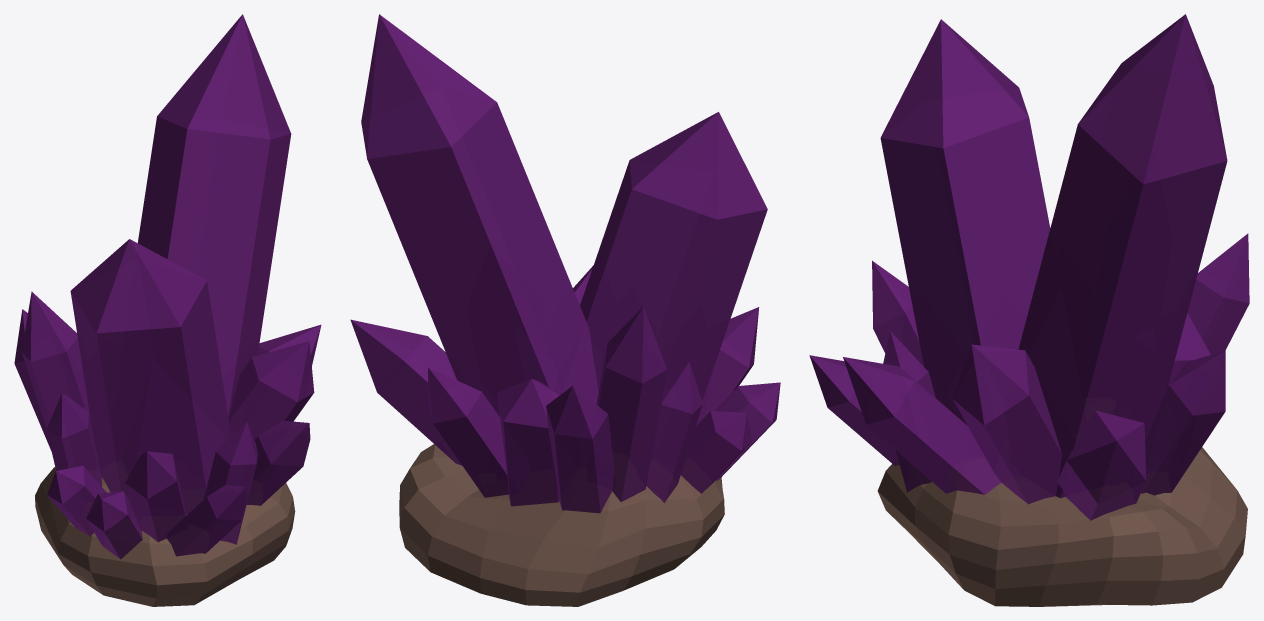
File: Crystal_Cluster_A.fbx
3 views of the same model, side by side, from view 1: azimuth 30°, elevation 25°; view 2: azimuth 150°, elevation 25°; view 3: azimuth 270°, elevation 25° (orthographic). The views are drawn at different scales.
Parts seen in each view (by area): view 1: Crystal13, Crystal14, Rock_A, pCylinder70, Crystal3, Crystal10, Crystal4, Crystal5, Crystal7, Crystal6, Crystal9, Crystal8 (+2 smaller); view 2: Crystal13, Crystal14, Rock_A, Crystal3, Crystal11, Crystal1, Crystal12, Crystal2, Crystal7, Crystal8, Crystal10, Crystal9; view 3: Crystal13, Crystal14, Rock_A, pCylinder70, Crystal4, Crystal12, Crystal1, Crystal11, Crystal10, Crystal5, Crystal6, Crystal2.
Part boxes in pixels (x1,y1,x2,y2): Crystal13: [138, 14, 291, 417]; Crystal14: [70, 239, 231, 514]; Rock_A: [35, 467, 295, 606]; pCylinder70: [228, 341, 314, 439]; Crystal3: [21, 291, 90, 428]; Crystal10: [125, 451, 186, 542]; Crystal4: [246, 420, 310, 505]; Crystal5: [167, 485, 247, 556]; Crystal7: [46, 393, 101, 486]; Crystal6: [204, 422, 257, 544]; Crystal9: [86, 491, 142, 559]; Crystal8: [47, 465, 106, 536]; Crystal13: [361, 14, 598, 416]; Crystal14: [580, 112, 767, 401]; Rock_A: [399, 444, 724, 606]; Crystal3: [596, 306, 666, 501]; Crystal11: [546, 386, 614, 513]; Crystal1: [350, 319, 462, 465]; Crystal12: [428, 367, 508, 497]; Crystal2: [497, 379, 560, 506]; Crystal7: [646, 362, 702, 503]; Crystal8: [681, 411, 751, 493]; Crystal10: [696, 307, 759, 425]; Crystal9: [714, 382, 780, 481]; Crystal13: [1018, 14, 1227, 498]; Crystal14: [880, 19, 1050, 425]; Rock_A: [877, 447, 1247, 606]; pCylinder70: [953, 344, 1062, 504]; Crystal4: [843, 357, 1001, 494]; Crystal12: [1141, 350, 1225, 495]; Crystal1: [1057, 410, 1146, 520]; Crystal11: [1187, 233, 1249, 354]; Crystal10: [872, 260, 923, 366]; Crystal5: [809, 355, 899, 465]; Crystal6: [883, 331, 935, 492]; Crystal2: [1168, 313, 1210, 386].
Bounding box in the file's own units: 2.25 × 2.12 × 3.28.
